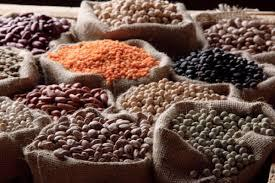Organic: (3, 4, 275, 183)
